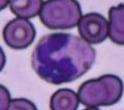N: (31, 32, 93, 84)
